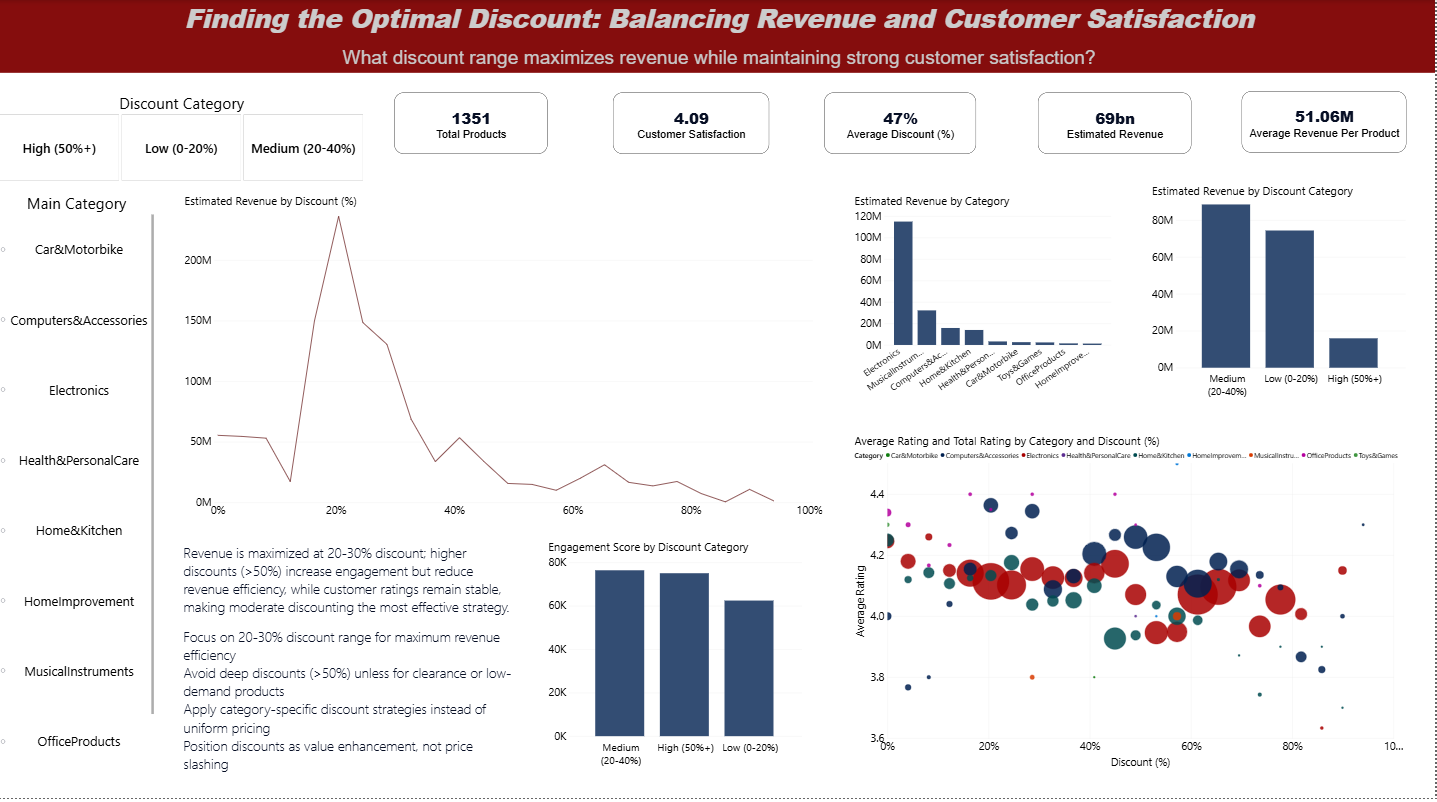

The page's visual inventory and layout, read from the dashboard file:
{"tool":"powerbi","page":{"name":"Page 1","canvas":[4500,2500],"ordinal":0},"visuals":[{"type":"card","fields":{"Values":["Avg(amazon_featured_dataset.rating)"]},"box":[1924.6,288,489.1,192],"z":0},{"type":"card","fields":{"Values":["Avg(amazon_featured_dataset.discount_percentage)"]},"box":[2587.4,288,475.4,192],"z":1000},{"type":"card","fields":{"Values":["Sum(amazon_featured_dataset.estimated_revenue)"]},"box":[3254.9,288,480,192],"z":2000},{"type":"card","fields":{"Values":["Count(amazon_featured_dataset.product_id)"]},"box":[1238.9,288,480,192],"z":3000},{"type":"card","fields":{"Values":["amazon_featured_dataset.Avg Revenue per Product"]},"box":[3895.8,286.2,515.1,192.1],"z":4000},{"type":"lineChart","fields":{"Category":["amazon_featured_dataset.discount_percentage (bins)"],"Y":["Avg(amazon_featured_dataset.estimated_revenue)"]},"box":[580.6,603.4,2006.9,1028.6],"z":5000},{"type":"columnChart","fields":{"Category":["amazon_featured_dataset.Main Category"],"Y":["Avg(amazon_featured_dataset.estimated_revenue)"]},"box":[2678.9,603.4,813.7,644.6],"z":6000},{"type":"columnChart","fields":{"Category":["amazon_featured_dataset.Discount Category"],"Y":["Avg(amazon_featured_dataset.estimated_revenue)"]},"box":[3606.9,571.4,804.6,681.1],"z":7000},{"type":"scatterChart","fields":{"X":["amazon_featured_dataset.discount_percentage (bins)"],"Y":["Avg(amazon_featured_dataset.rating)"],"Size":["Sum(amazon_featured_dataset.rating_count)"],"Series":["amazon_featured_dataset.Main Category"]},"box":[2678.9,1353.1,1732.6,1056],"z":8000},{"type":"columnChart","fields":{"Category":["amazon_featured_dataset.Discount Category"],"Y":["Avg(amazon_featured_dataset.engagement_score)"]},"box":[1718.9,1686.9,804.6,722.3],"z":9000},{"type":"listSlicer","fields":{"Values":["amazon_featured_dataset.Main Category"]},"box":[0,602.7,493.1,1835.5],"z":10000},{"type":"advancedSlicerVisual","fields":{"Values":["amazon_featured_dataset.Discount Category"]},"box":[0,289.6,1150.6,281.8],"z":11000},{"type":"textbox","box":[0,0,4500,228],"z":12000},{"type":"textbox","title":"Finding the Optimal Discount: Balancing Revenue and Customer Satisfaction","box":[100,0,4312,228],"z":13000},{"type":"textbox","title":"What discount range maximizes revenue while maintaining strong customer satisfaction?","box":[100,144,4312,112],"z":14000},{"type":"textbox","box":[576,1694.6,1060.2,805.6],"z":14001}]}

Visuals, with their boxes in screenshot pixels (x1, y1, x2, y2), scaled from the page's 4500x2500 canvas onto the 1437x802 screenshot:
card - Avg(amazon_featured_dataset.rating): box(615, 92, 771, 154)
card - Avg(amazon_featured_dataset.discount_percentage): box(826, 92, 978, 154)
card - Sum(amazon_featured_dataset.estimated_revenue): box(1039, 92, 1193, 154)
card - Count(amazon_featured_dataset.product_id): box(396, 92, 549, 154)
card - amazon_featured_dataset.Avg Revenue per Product: box(1244, 92, 1409, 153)
lineChart - amazon_featured_dataset.discount_percentage (bins) x Avg(amazon_featured_dataset.estimated_revenue): box(185, 194, 826, 524)
columnChart - amazon_featured_dataset.Main Category x Avg(amazon_featured_dataset.estimated_revenue): box(855, 194, 1115, 400)
columnChart - amazon_featured_dataset.Discount Category x Avg(amazon_featured_dataset.estimated_revenue): box(1152, 183, 1409, 402)
scatterChart - amazon_featured_dataset.discount_percentage (bins) x Avg(amazon_featured_dataset.rating): box(855, 434, 1409, 773)
columnChart - amazon_featured_dataset.Discount Category x Avg(amazon_featured_dataset.engagement_score): box(549, 541, 806, 773)
listSlicer - amazon_featured_dataset.Main Category: box(0, 193, 157, 782)
advancedSlicerVisual - amazon_featured_dataset.Discount Category: box(0, 93, 367, 183)
textbox: box(0, 0, 1436, 73)
"Finding the Optimal Discount: Balancing Revenue and Customer Satisfaction" textbox: box(32, 0, 1409, 73)
"What discount range maximizes revenue while maintaining strong customer satisfaction?" textbox: box(32, 46, 1409, 82)
textbox: box(184, 544, 522, 801)
